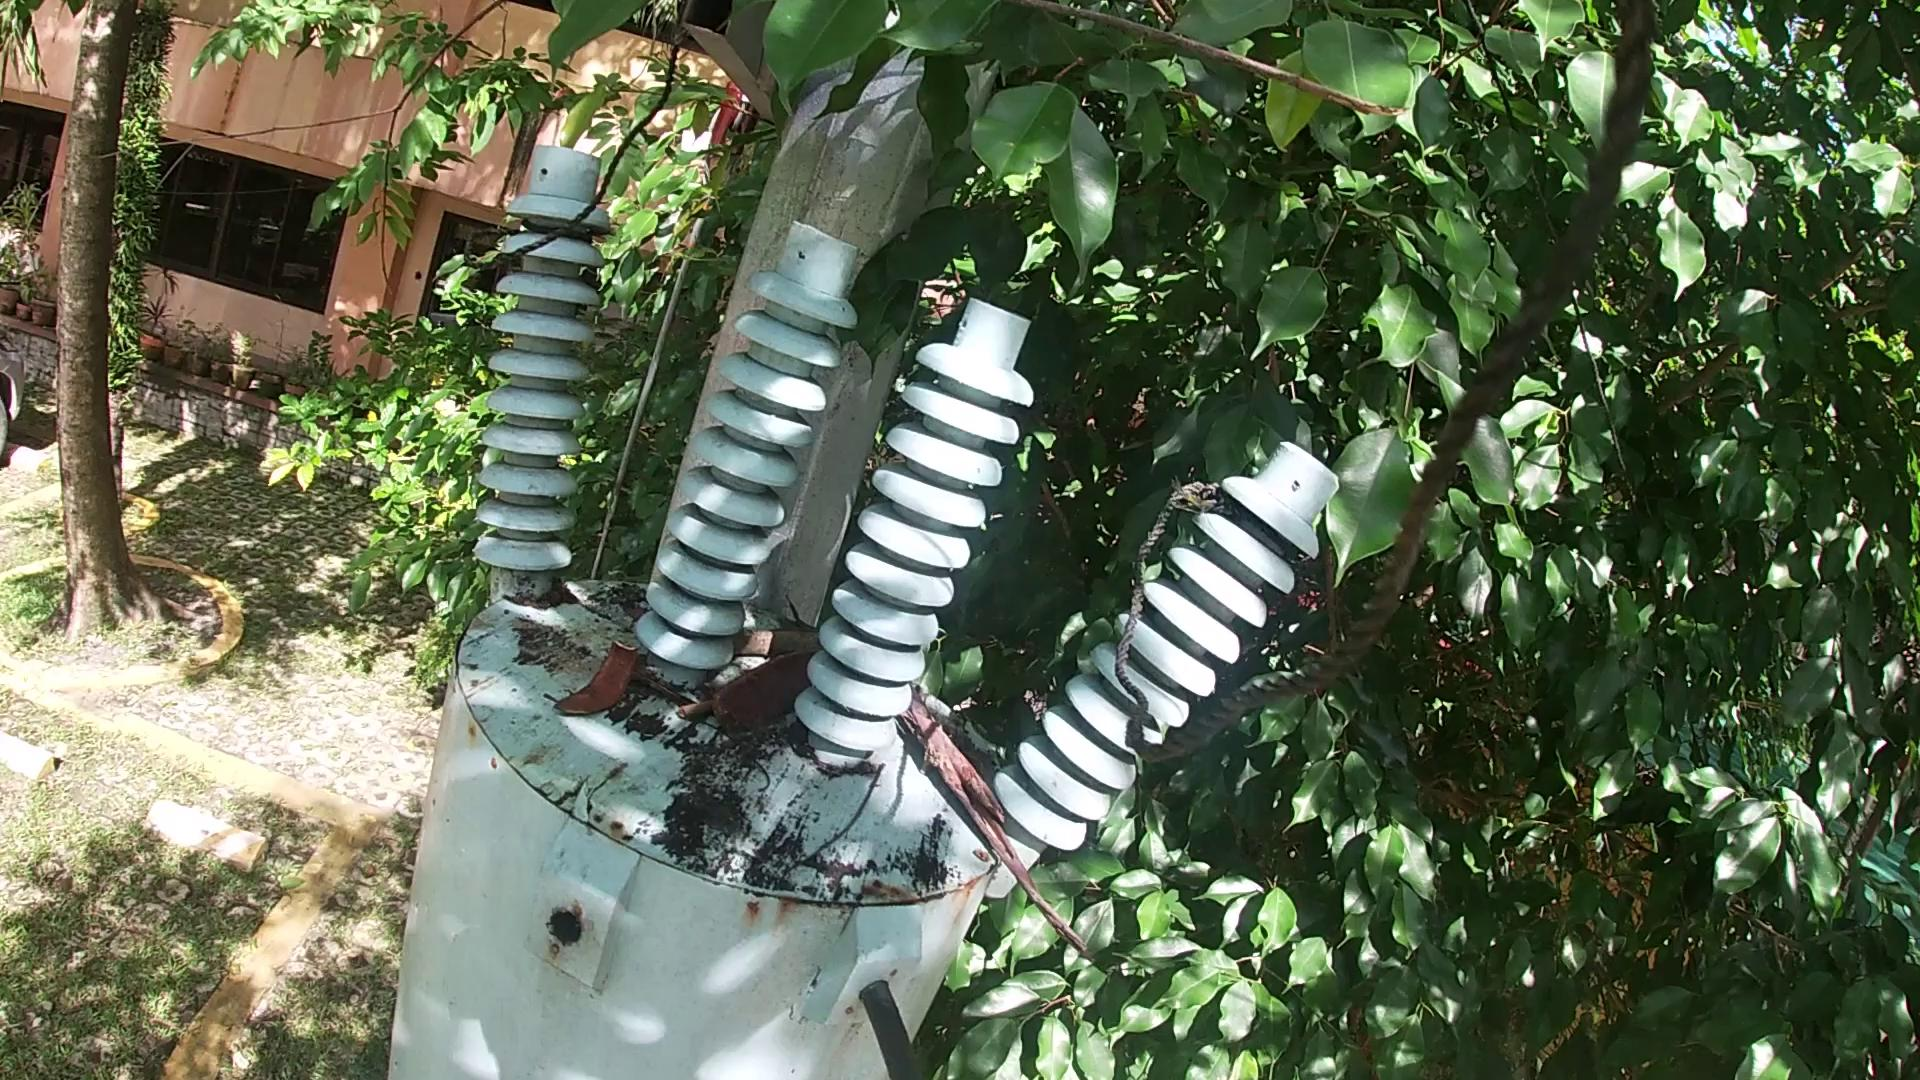leaf: (645, 669, 673, 698)
mahogany fruit: (553, 636, 634, 725), (713, 669, 804, 733)
tree branch: (142, 1, 1425, 298), (899, 700, 1095, 963), (795, 761, 887, 880), (713, 733, 779, 791), (732, 626, 824, 655), (662, 703, 709, 713)
